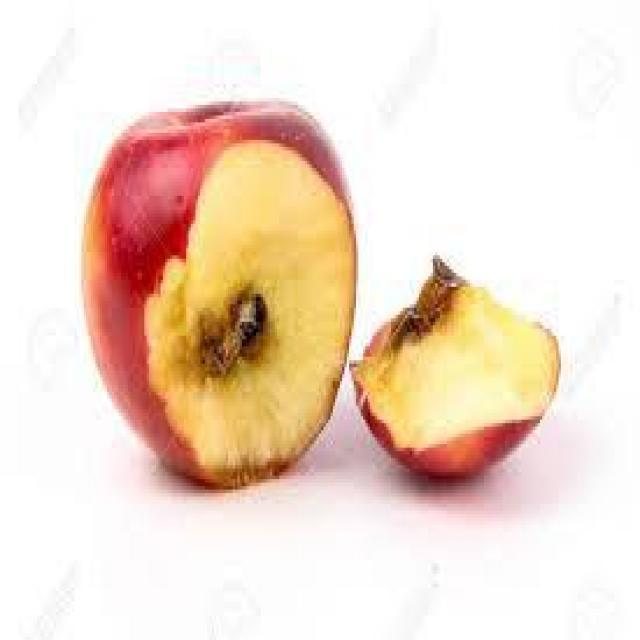Rotten: (97, 103, 343, 465)
